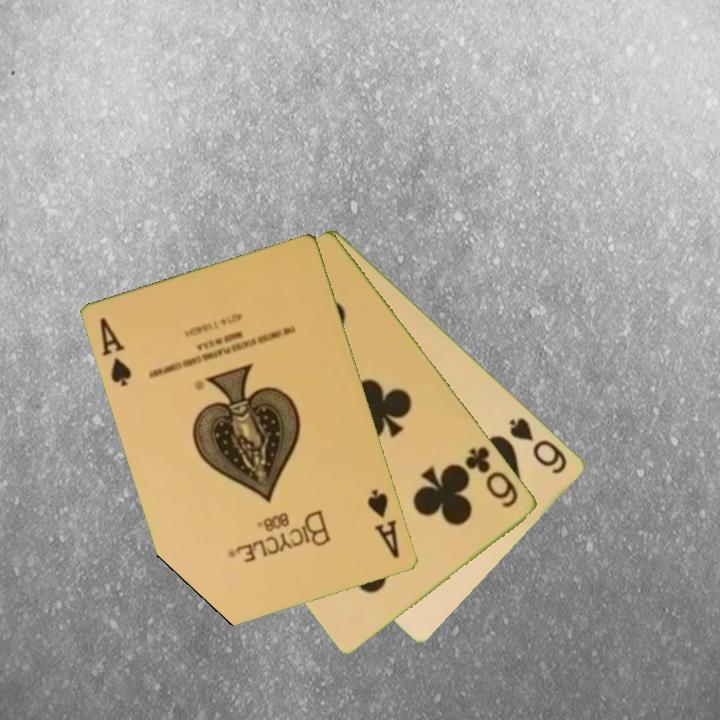6c: (462, 442, 522, 511)
6s: (505, 414, 571, 477)
As: (364, 485, 403, 561), (96, 314, 135, 390)
